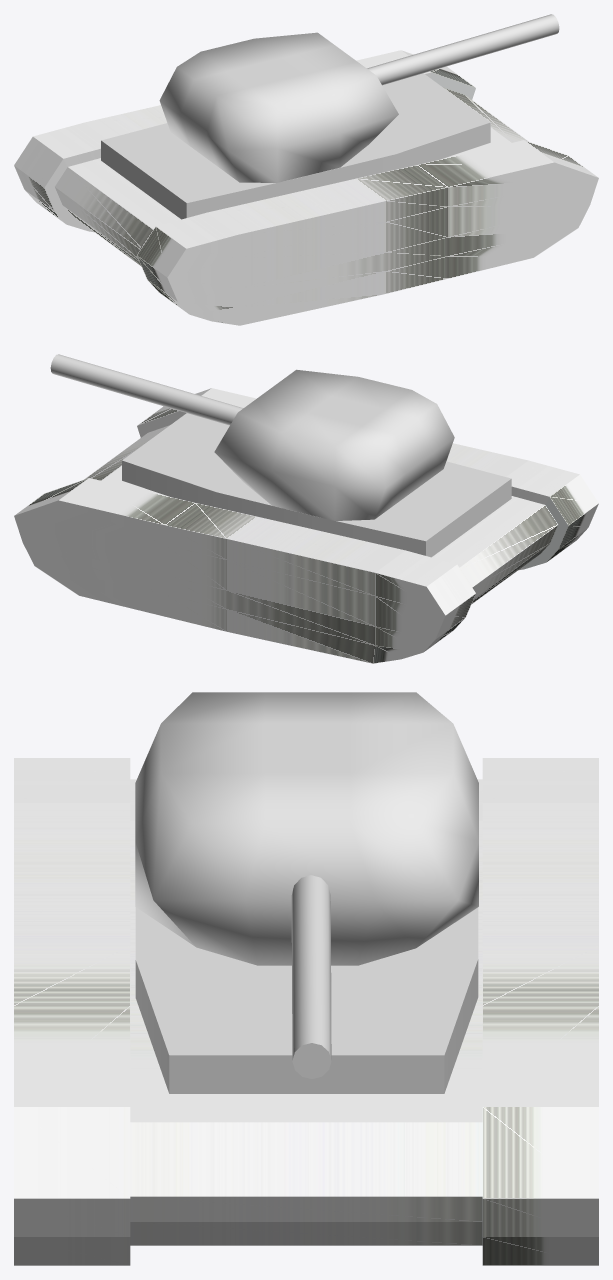
File: Panzermodell2.fbx
3 views of the same model, one above another, from view 1: azimuth 30°, elevation 25°; view 2: azimuth 150°, elevation 25°; view 3: azimuth 270°, elevation 25° (orthographic). The views are drawn at different scales.
Visible parts, largest first — view 1: Würfel_3, Würfel, Würfel_2, Zylinder; view 2: Würfel_3, Würfel, Würfel_2, Zylinder; view 3: Würfel_3, Würfel, Würfel_2, Zylinder.
Part boxes in pixels (left/top/right/bottom): Würfel_3: left=14, top=50, right=598, bottom=325; Würfel: left=159, top=32, right=398, bottom=182; Würfel_2: left=101, top=73, right=490, bottom=219; Zylinder: left=367, top=14, right=559, bottom=85; Würfel_3: left=14, top=388, right=598, bottom=663; Würfel: left=214, top=369, right=454, bottom=520; Würfel_2: left=122, top=413, right=511, bottom=557; Zylinder: left=50, top=354, right=243, bottom=425; Würfel_3: left=14, top=758, right=598, bottom=1265; Würfel: left=135, top=692, right=478, bottom=965; Würfel_2: left=135, top=907, right=478, bottom=1093; Zylinder: left=291, top=875, right=331, bottom=1078.
Size of the model in its own units: 209 by 75.13 by 119.
Materials: 1 (1 with a texture image).
